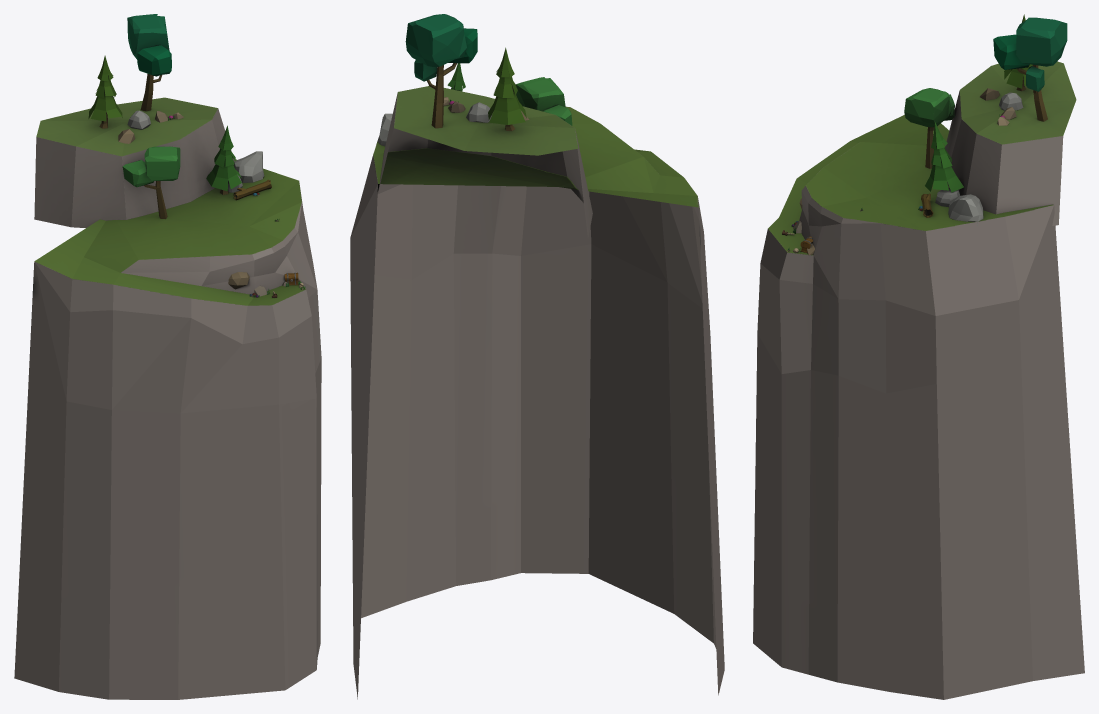
File: Detalle_Izquierda.FBX
3 renders of one model, left to right at view 1: azimuth 30°, elevation 25°; view 2: azimuth 150°, elevation 25°; view 3: azimuth 270°, elevation 25°, orthographic. The views are drawn at different scales.
Parts seen in each view (by area): view 1: Isla_Izquierda, Detalle_Izquierda; view 2: Isla_Izquierda, Detalle_Izquierda; view 3: Isla_Izquierda, Detalle_Izquierda.
Part boxes in pixels (x1,y1,x2,y2): Isla_Izquierda: [14, 97, 321, 699]; Detalle_Izquierda: [88, 14, 305, 297]; Isla_Izquierda: [350, 86, 724, 699]; Detalle_Izquierda: [377, 14, 572, 146]; Isla_Izquierda: [753, 61, 1084, 699]; Detalle_Izquierda: [782, 14, 1067, 255].
Size of the model in its own units: 556 by 1029 by 496.
Materials: 1 (1 with a texture image).
